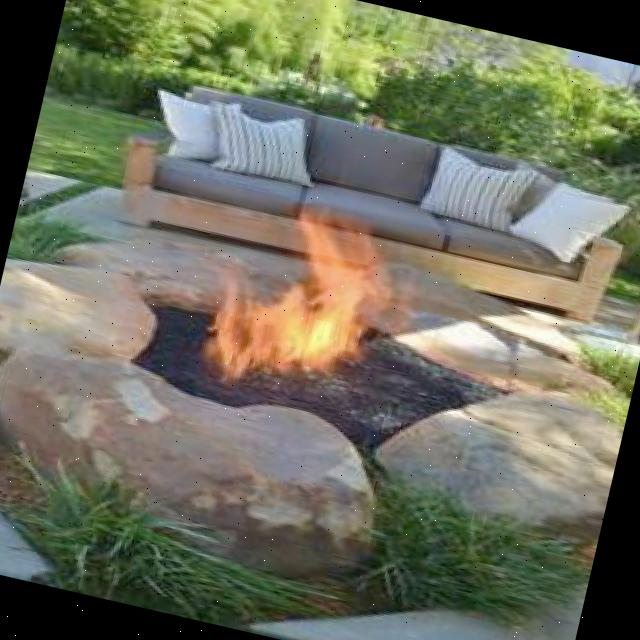fire: (194, 162, 418, 394)
